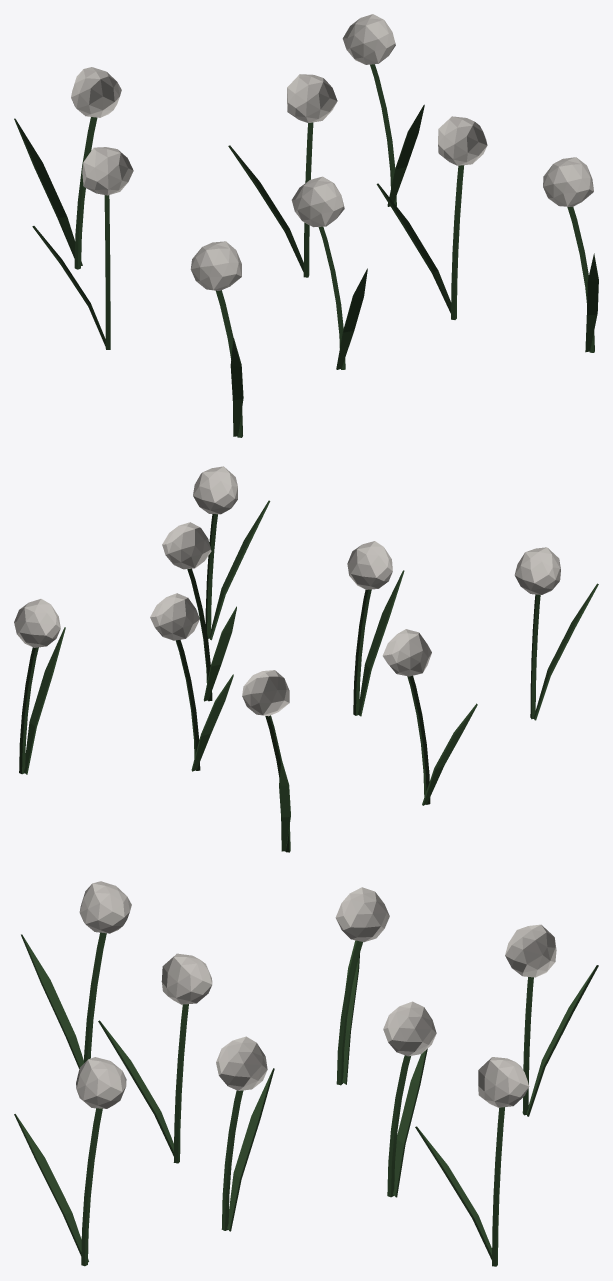
File: 하얀황새풀.fbx
3 renders of one model, top to bottom at view 1: azimuth 30°, elevation 25°; view 2: azimuth 150°, elevation 25°; view 3: azimuth 270°, elevation 25°, orthographic. The views are drawn at different scales.
Visible parts, largest first — view 1: GeoSphere007; view 2: GeoSphere007; view 3: GeoSphere007.
Part boxes in pixels (x1=…): GeoSphere007: x1=14, y1=14, x2=598, y2=437; GeoSphere007: x1=14, y1=466, x2=598, y2=852; GeoSphere007: x1=14, y1=881, x2=598, y2=1266.
Size of the model in its own units: 221 by 93.4 by 252.
